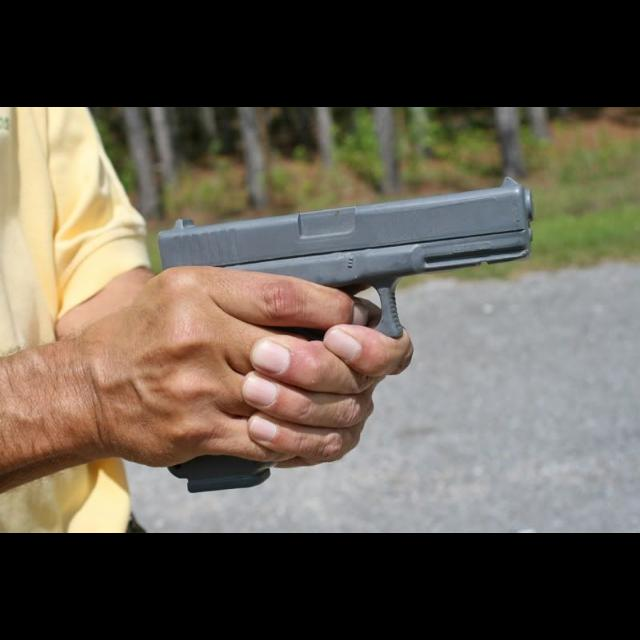handgun: (152, 172, 544, 346)
